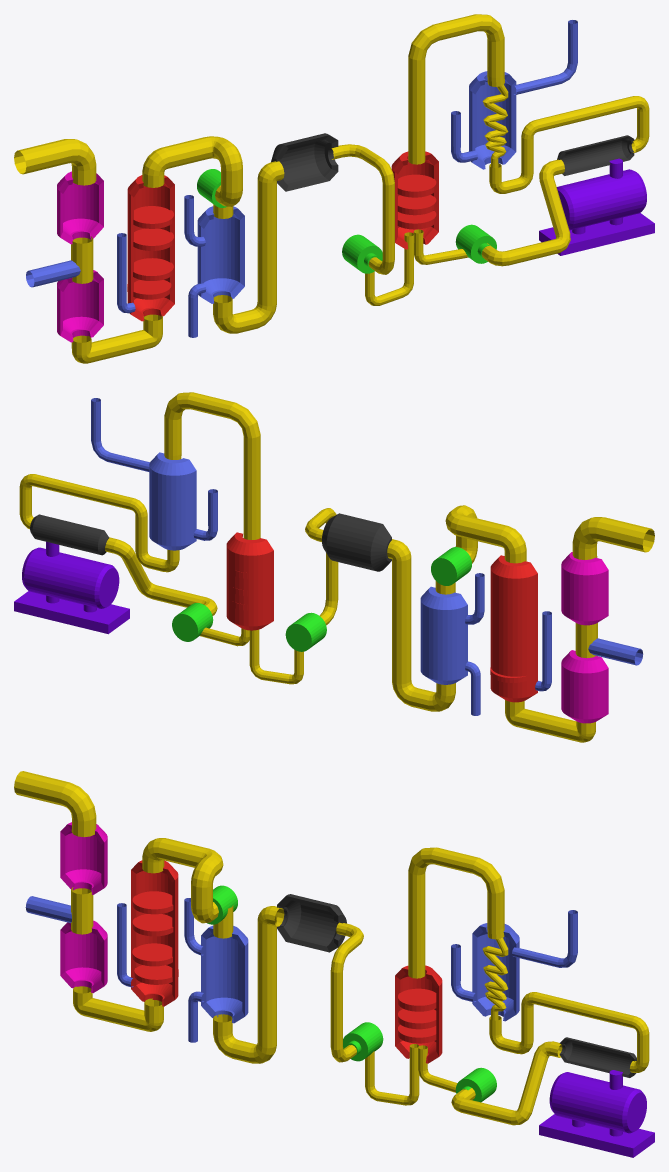
The model's file is ProcesoQuim.fbx.
3 renders of one model, top to bottom at view 1: azimuth 30°, elevation 25°; view 2: azimuth 150°, elevation 25°; view 3: azimuth 330°, elevation 25°, orthographic.
Visible parts, largest first — view 1: Cylinder.002, Cylinder.011, Plane.012, Plane.009, Cylinder.003, Cylinder.004, Plane.004, Plane.014, Cylinder.006, Cylinder.007, Cylinder, Cylinder.001 (+18 smaller); view 2: Cylinder.011, Cylinder.002, Plane.012, Cylinder.004, Cylinder.006, Plane.009, Cylinder.003, Plane.014, Cylinder.007, Cylinder.001, Cylinder, Plane.004 (+17 smaller); view 3: Cylinder.011, Cylinder.002, Plane.012, Plane.009, Cylinder.003, Cylinder.004, Plane.014, Plane.004, Cylinder.007, Cylinder.006, Cylinder.001, Cylinder (+16 smaller).
Part boxes in pixels (<box>): Cylinder.002: <box>127,175,174,321</box>; Cylinder.011: <box>539,158,654,255</box>; Plane.012: <box>408,14,504,164</box>; Plane.009: <box>213,161,284,333</box>; Cylinder.003: <box>197,206,244,303</box>; Cylinder.004: <box>391,151,438,249</box>; Plane.004: <box>142,136,242,206</box>; Plane.014: <box>489,96,649,193</box>; Cylinder.006: <box>469,71,516,169</box>; Cylinder.007: <box>271,133,338,191</box>; Cylinder: <box>57,171,103,244</box>; Cylinder.001: <box>57,270,103,342</box>; Cylinder.011: <box>14,541,129,634</box>; Cylinder.002: <box>490,555,537,702</box>; Plane.012: <box>164,392,260,539</box>; Cylinder.004: <box>226,532,273,630</box>; Cylinder.006: <box>149,452,196,550</box>; Plane.009: <box>387,539,455,711</box>; Cylinder.003: <box>420,586,467,684</box>; Plane.014: <box>19,474,179,572</box>; Cylinder.007: <box>322,513,391,571</box>; Cylinder.001: <box>561,650,608,723</box>; Cylinder: <box>561,552,608,625</box>; Plane.004: <box>445,505,526,563</box>; Cylinder.011: <box>539,1070,654,1157</box>; Cylinder.002: <box>131,860,178,1006</box>; Plane.012: <box>408,847,504,978</box>; Plane.009: <box>213,906,284,1063</box>; Cylinder.003: <box>201,925,248,1023</box>; Cylinder.004: <box>395,965,442,1063</box>; Plane.014: <box>489,992,649,1072</box>; Plane.004: <box>142,838,223,923</box>; Cylinder.007: <box>277,894,346,952</box>; Cylinder.006: <box>472,923,519,1021</box>; Cylinder.001: <box>60,920,107,993</box>; Cylinder: <box>60,822,107,894</box>.
Size of the model in its own units: 589 by 239 by 71.
